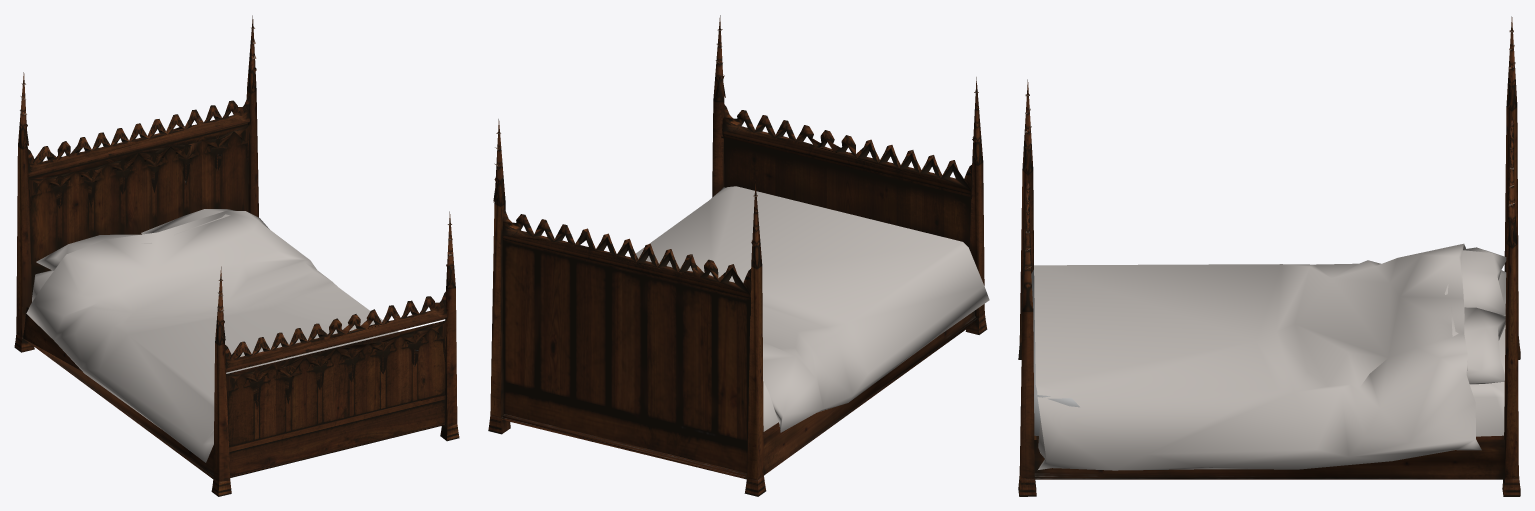
3 renders of one model, left to right at view 1: azimuth 30°, elevation 25°; view 2: azimuth 150°, elevation 25°; view 3: azimuth 270°, elevation 25°, orthographic. The views are drawn at different scales.
Parts seen in each view (by area): view 1: GothicBed_01; view 2: GothicBed_01; view 3: GothicBed_01.
Part boxes in pixels (x1,y1,x2,y2): GothicBed_01: (14, 15, 459, 496); GothicBed_01: (488, 15, 989, 496); GothicBed_01: (1018, 16, 1520, 496).
Size of the model in its own units: 150 by 153 by 204.
